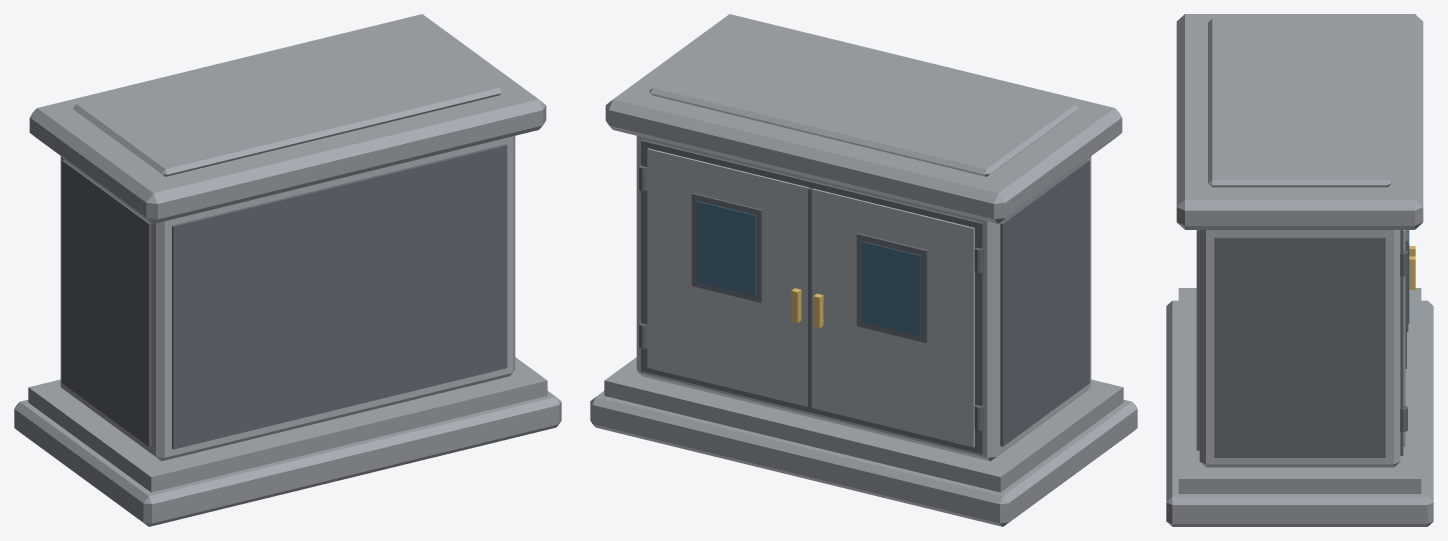
File: utility box.fbx
3 views of the same model, side by side, from view 1: azimuth 30°, elevation 25°; view 2: azimuth 150°, elevation 25°; view 3: azimuth 270°, elevation 25° (orthographic).
Parts seen in each view (by area): view 1: Door_Right; view 2: Door_Right; view 3: Door_Right.
Boxes of the visible parts, x1,y1,x2,y2 form: Door_Right: (14, 14, 561, 526); Door_Right: (590, 14, 1137, 526); Door_Right: (1166, 14, 1433, 526).
Bounding box in the file's own units: 228 × 174 × 128.
